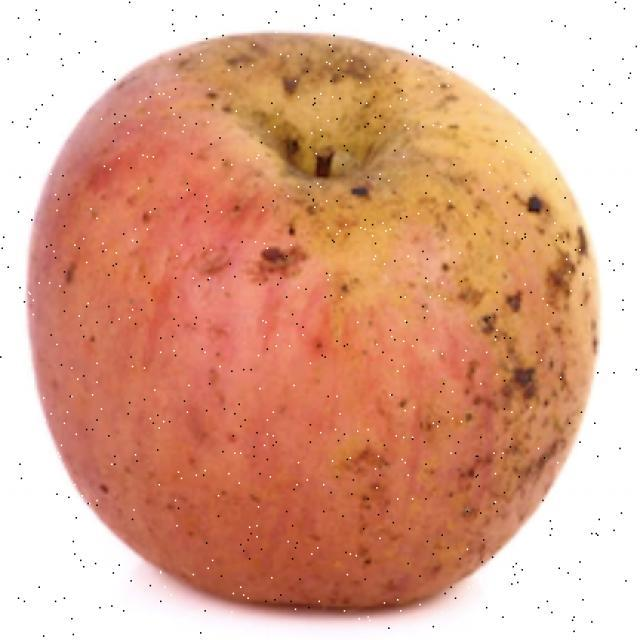Rotten: (22, 38, 583, 595)
